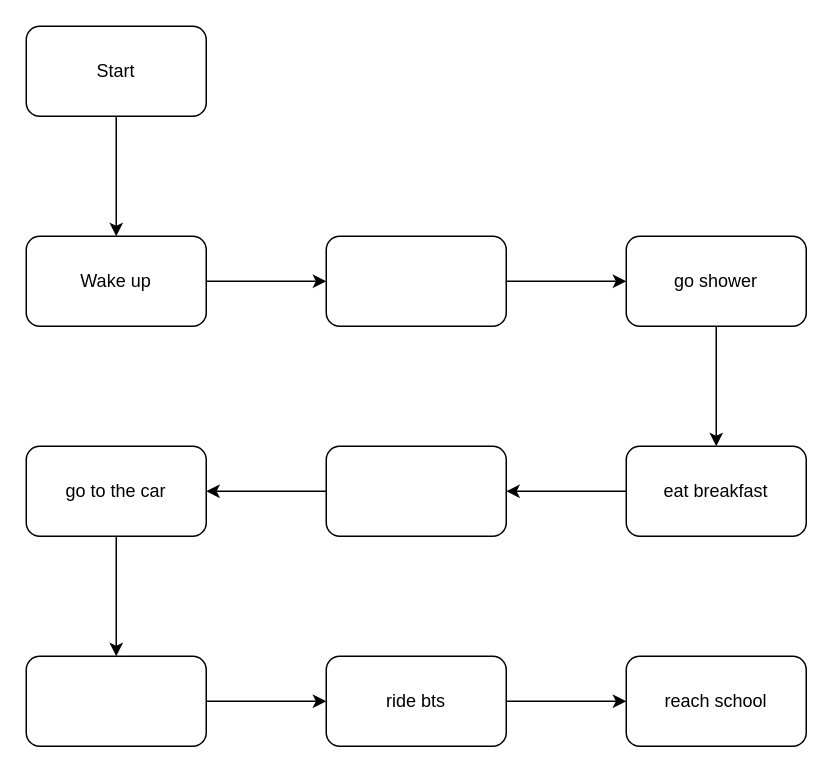
Image size: 833x773. Some labels were removed from this diagram. Here are the shapes that lost their labels. From the top down, the centre of each, then its label:
At point 415,280: "Play games on my phone".
At point 415,490: "Watch tv".
At point 115,700: "Get to bts".
